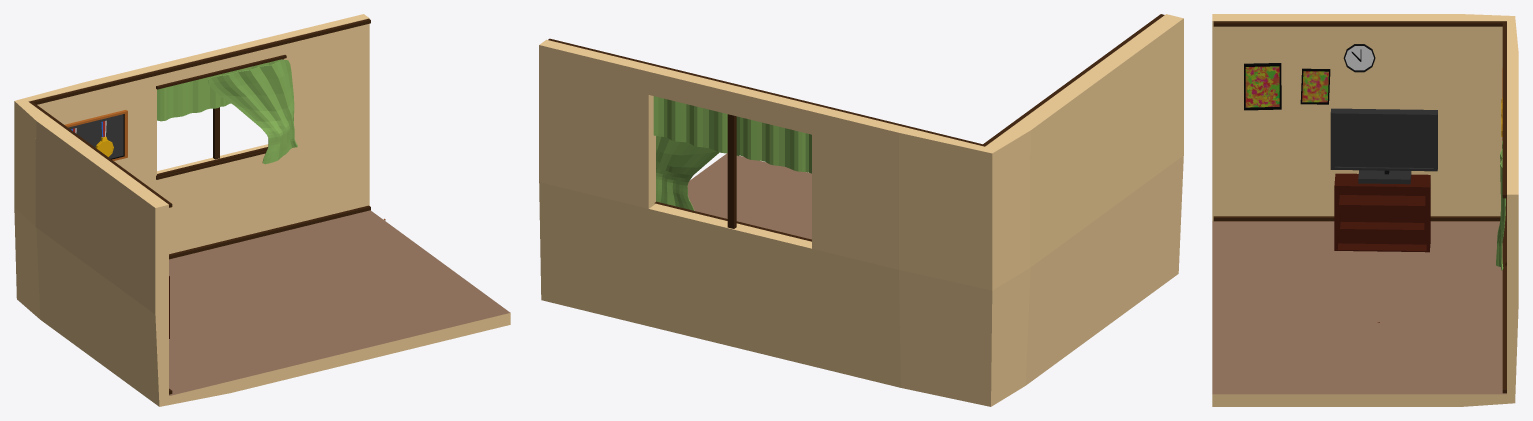
File: room-1-livingroom.glb
3 views of the same model, side by side, from view 1: azimuth 30°, elevation 25°; view 2: azimuth 150°, elevation 25°; view 3: azimuth 270°, elevation 25° (orthographic). The views are drawn at different scales.
Visible parts, largest first — view 1: Main Base, Plane, Cube.037, Plane.001, Cube.008, Cube.018, Cube.004; view 2: Main Base, Plane.002, Plane.001, Plane, Cube.037, Cube.017; view 3: Main Base, Cube.001, Cube, Cube.037, Cube.018, Cube.006, Cube.014, Clock, Plane.
Boxes of the visible parts, box(x1,y1,x2,y2) form: Main Base: box(14, 14, 510, 406); Plane: box(208, 59, 297, 164); Cube.037: box(29, 18, 370, 207); Plane.001: box(157, 74, 220, 121); Cube.008: box(64, 110, 127, 160); Cube.018: box(169, 205, 370, 394); Cube.004: box(156, 55, 286, 89); Main Base: box(539, 14, 1183, 406); Plane.002: box(653, 96, 739, 155); Plane.001: box(727, 114, 811, 173); Plane: box(656, 136, 719, 210); Cube.037: box(548, 14, 1164, 146); Cube.017: box(727, 114, 736, 228); Main Base: box(1212, 14, 1518, 406); Cube.001: box(1330, 108, 1437, 184); Cube: box(1334, 173, 1430, 252); Cube.037: box(1213, 21, 1506, 198); Cube.018: box(1213, 216, 1506, 393); Cube.006: box(1244, 63, 1281, 110); Cube.014: box(1300, 68, 1330, 104); Clock: box(1343, 44, 1375, 72); Plane: box(1496, 141, 1505, 270).
Size of what is drawn, in the model's own units: 2.99 by 1.64 by 2.14.
18 materials, 1 textured.
